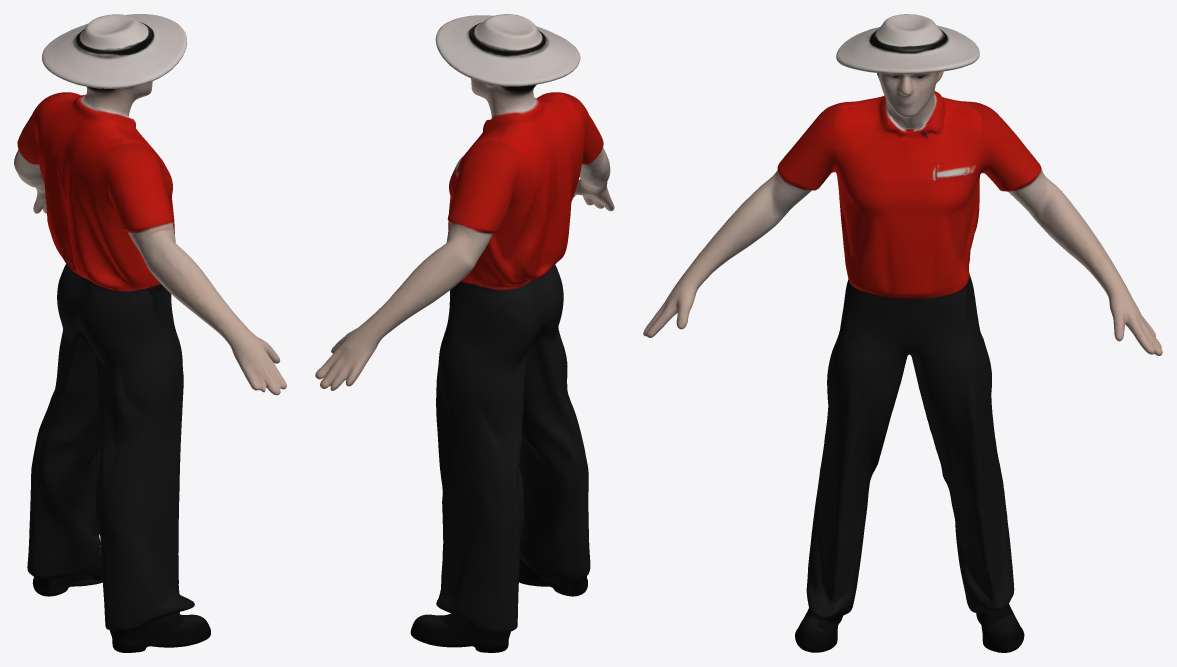
3 renders of one model, left to right at view 1: azimuth 30°, elevation 25°; view 2: azimuth 150°, elevation 25°; view 3: azimuth 270°, elevation 25°, orthographic. The views are drawn at different scales.
Parts seen in each view (by area): view 1: tripo_node_351b14e0-9c7e-4a76-9cd5-1d40470d5544; view 2: tripo_node_351b14e0-9c7e-4a76-9cd5-1d40470d5544; view 3: tripo_node_351b14e0-9c7e-4a76-9cd5-1d40470d5544.
Boxes of the visible parts, x1=… form: tripo_node_351b14e0-9c7e-4a76-9cd5-1d40470d5544: x1=14, y1=14, x2=286, y2=652; tripo_node_351b14e0-9c7e-4a76-9cd5-1d40470d5544: x1=315, y1=14, x2=614, y2=652; tripo_node_351b14e0-9c7e-4a76-9cd5-1d40470d5544: x1=643, y1=14, x2=1162, y2=652.
Bounding box in the file's own units: 0.2318 × 0.9466 × 0.7282.
Materials: 1 (1 with a texture image).
